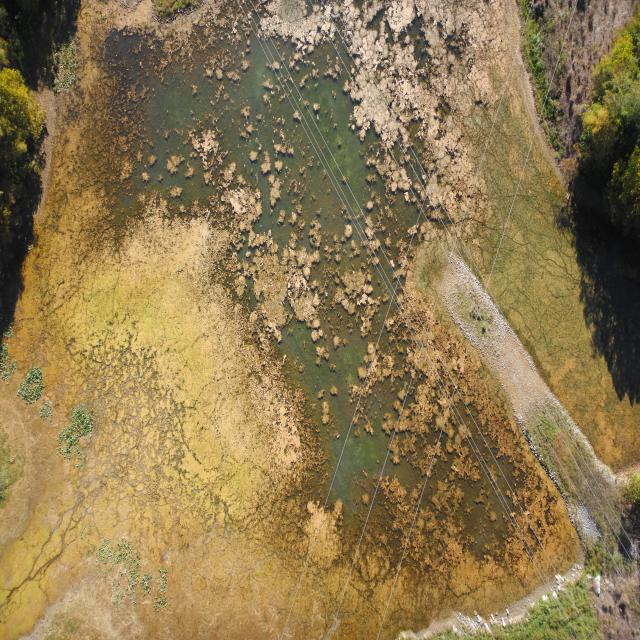Area of Interest: (588, 41, 640, 220)
